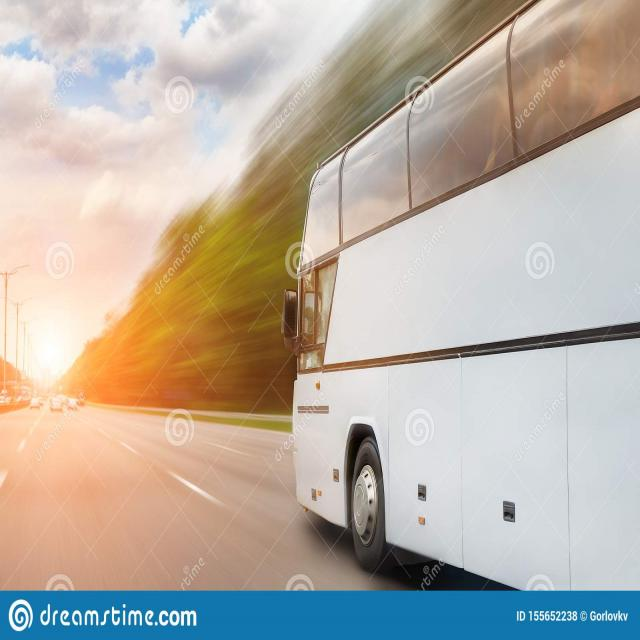BUS: (246, 0, 640, 570)
